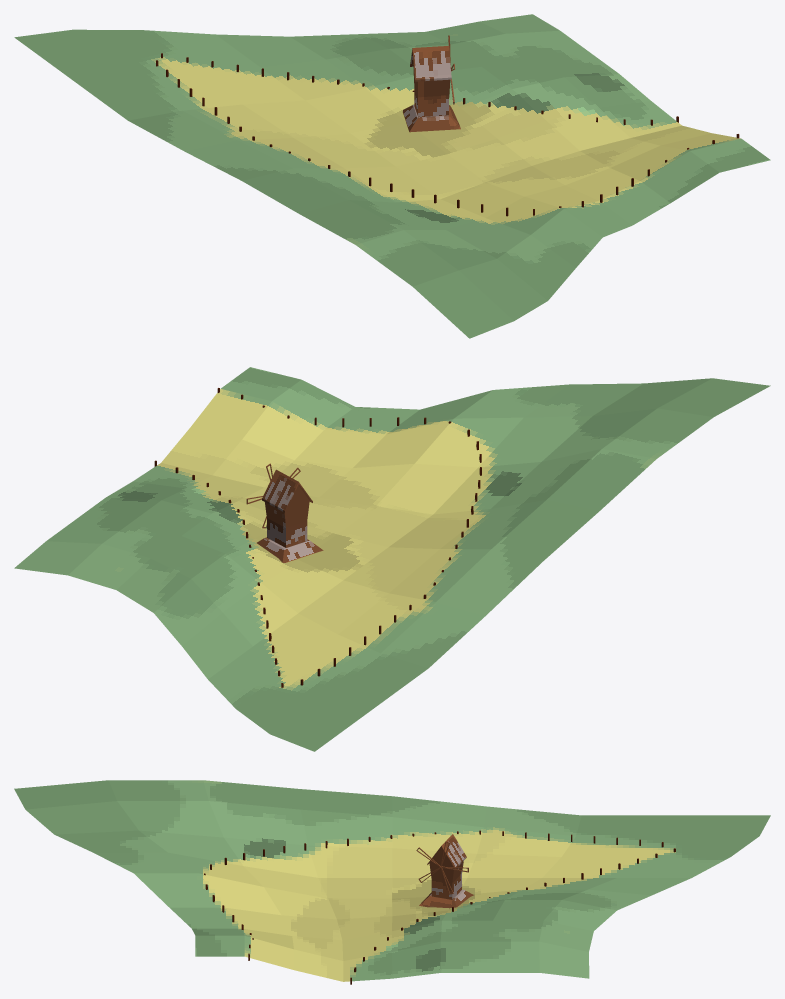
The model's file is main_menu_background.glb.
The picture shows the model from 3 angles, top to bottom: view 1: azimuth 30°, elevation 25°; view 2: azimuth 150°, elevation 25°; view 3: azimuth 270°, elevation 25°; orthographic projection. The views are drawn at different scales.
Parts seen in each view (by area): view 1: Floor, wind_mill_body, Fence; view 2: Floor, wind_mill_body, Fence; view 3: Floor, wind_mill_body, Fence, wind_mill_sails.
Part boxes in pixels (left/top/right/bottom): Floor: left=14, top=14, right=770, bottom=338; wind_mill_body: left=403, top=46, right=460, bottom=132; Fence: left=156, top=53, right=739, bottom=216; Floor: left=14, top=367, right=770, bottom=751; wind_mill_body: left=257, top=469, right=323, bottom=562; Fence: left=154, top=388, right=481, bottom=687; Floor: left=14, top=780, right=770, bottom=981; wind_mill_body: left=419, top=834, right=473, bottom=908; Fence: left=204, top=830, right=675, bottom=984; wind_mill_sails: left=416, top=841, right=468, bottom=894.
Bounding box in the file's own units: 9.02 × 1.88 × 17.29.
Materials: 2 (1 with a texture image).
